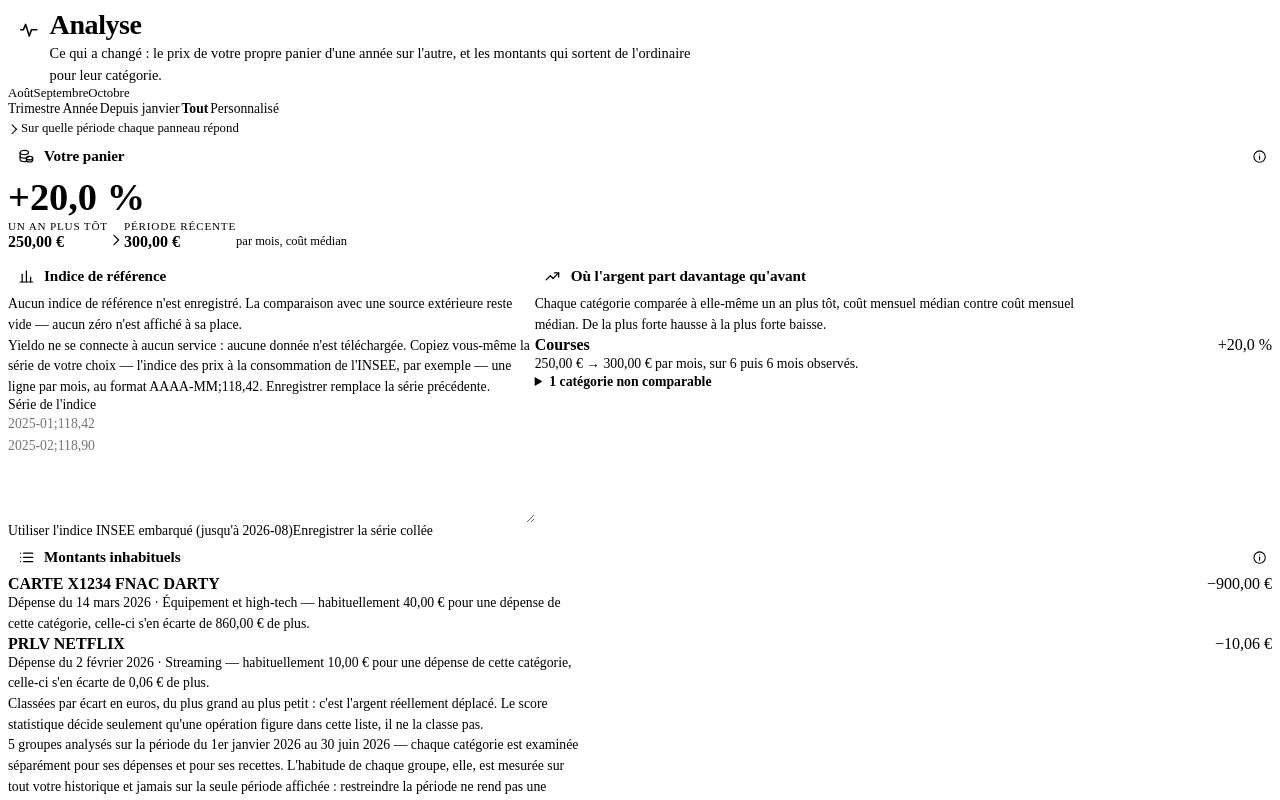
Scenario: AnalysisPage — inflation › says the index is not configured rather than showing a zero
Click the button named "Comment ce panier est mesuré" at coordinates (1260, 156), box [1248,144,1272,168]
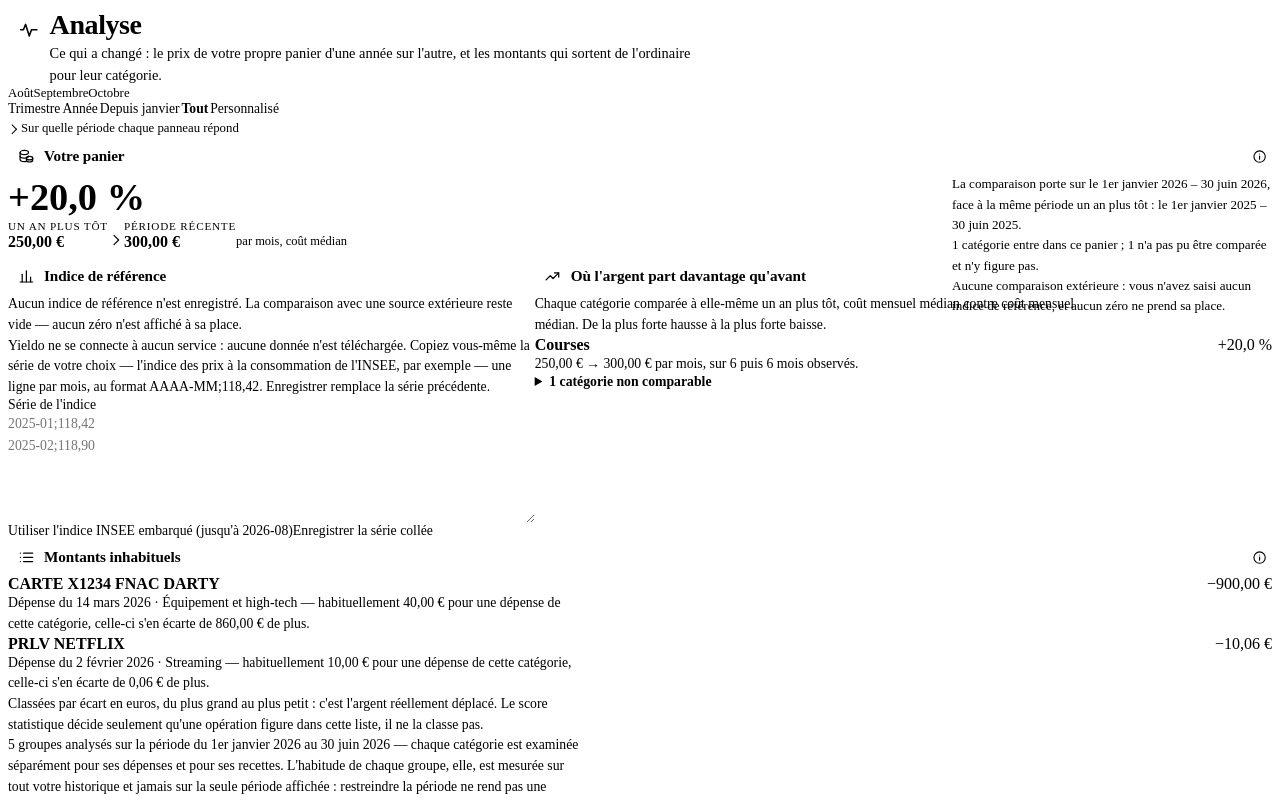
expect the tooltip does not show "Indice de référence sur les mêmes périodes": met, box [952,174,1272,317]
expect the tooltip shows "vous n'avez saisi aucun indice de référence": met, box [952,278,1251,313]
